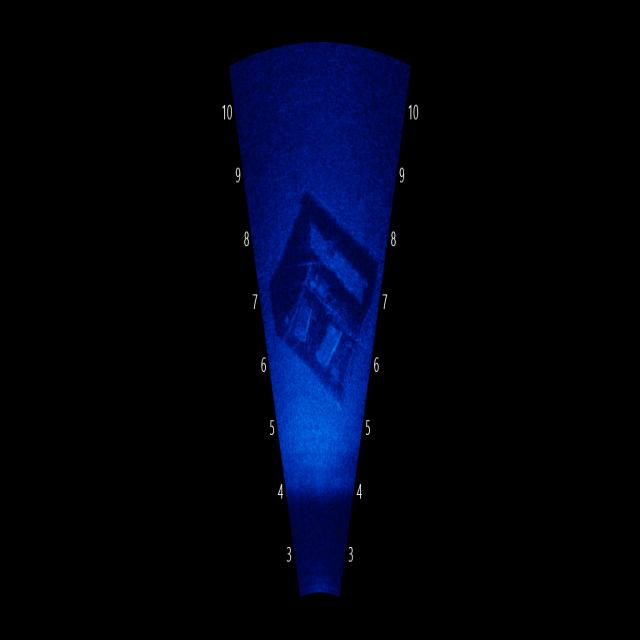square: (264, 180, 381, 406)
